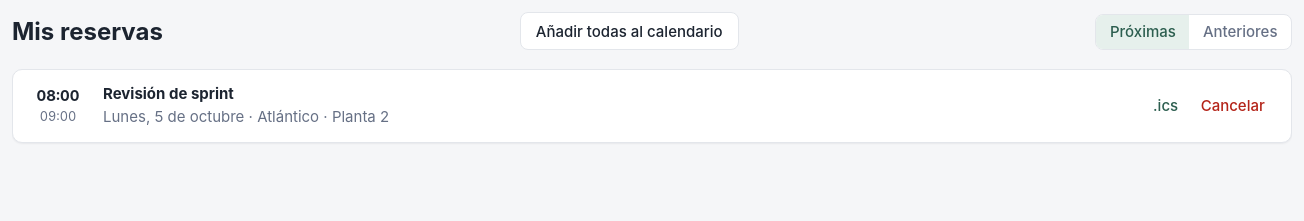
Test: MyBookingsPage › shows the API error if the download fails
This screenshot has width=1304, height=221.
Expected: the text "Revisión de sprint" is shown, [103,84,234,103]
Click the button ".ics". click: (1166, 106)
box: [1146,92,1186,120]
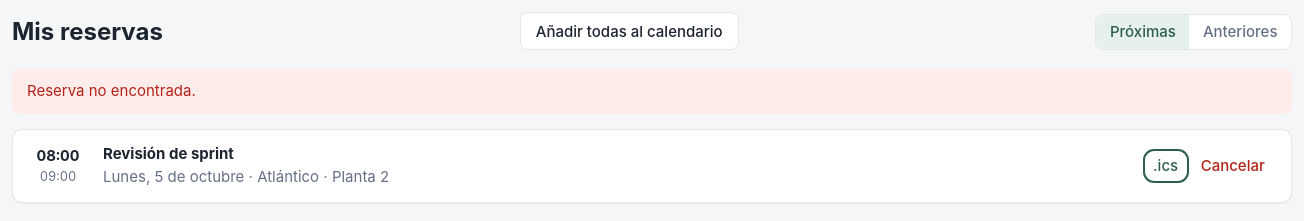
Expected: the text "Reserva no encontrada." is shown, [12,69,1292,114]
